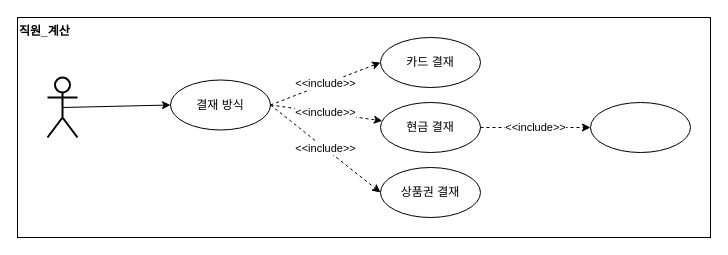
The diagram is 728 pixels wide and 255 high, and some of its shapes have lost their labels. The shapes that lost their labels are listed below. From the top down, each one's centre as x and y in pixels, then its label:
the point at 62,107: 직원
the point at 640,127: 영수증 출력
